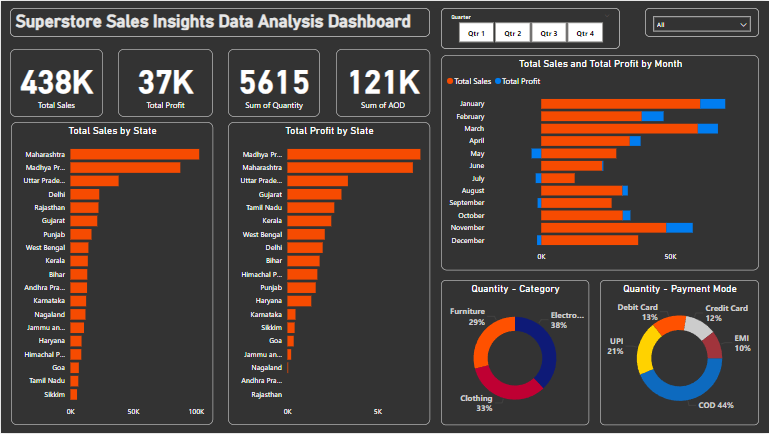

The page's visual inventory and layout, read from the dashboard file:
{"tool":"powerbi","page":{"name":"Page 1","canvas":[1280,720],"ordinal":0},"visuals":[{"type":"textbox","title":"Superstore Sales Insights Data Analysis Dashboard ","box":[15,11.7,700,48.3],"z":0},{"type":"donutChart","title":"Quantity - Category ","fields":{"Category":["Details.Category"],"Y":["Sum(Details.Amount)"]},"box":[733.3,465,246.7,241.7],"z":1000},{"type":"donutChart","title":"Quantity - Payment Mode","fields":{"Category":["Details.PaymentMode"],"Y":["Sum(Details.Quantity)"]},"box":[998.3,465,265,241.7],"z":2000},{"type":"card","fields":{"Values":["Details.Total Sales"]},"box":[15,80,155,113.3],"z":3000},{"type":"card","fields":{"Values":["Details.Total Profit"]},"box":[195,80,158.3,113.3],"z":4000},{"type":"card","fields":{"Values":["Sum(Details.Quantity)"]},"box":[378.3,80,153.3,113.3],"z":5000},{"type":"card","fields":{"Values":["Sum(Details.AOD)"]},"box":[558.3,80,156.7,113.3],"z":6000},{"type":"slicer","fields":{"Values":["Orders.Order Date.Variation.Date Hierarchy.Quarter"]},"box":[732.8,11.3,297.6,68],"z":7000},{"type":"slicer","fields":{"Values":["Orders.State"]},"box":[1072.5,11.2,190,47.5],"z":8000},{"type":"barChart","fields":{"Category":["Orders.Order Date.Variation.Date Hierarchy.Quarter","Orders.Order Date.Variation.Date Hierarchy.Month"],"Y":["Details.total sales","Details.total profit"]},"box":[732.8,89.3,530.1,358.6],"z":9000},{"type":"barChart","fields":{"Y":["Details.Total Sales"],"Category":["Orders.State","Orders.City"]},"box":[16.7,201.7,336.7,505],"z":10000},{"type":"barChart","fields":{"Category":["Orders.State","Orders.City"],"Y":["Details.Total Profit"]},"box":[378.3,201.7,336.7,505],"z":11000}]}

Visuals, with their boxes in screenshot pixels (x1, y1, x2, y2), scaled from the page's 1280x720 canvas onto the 769x434 screenshot:
"Superstore Sales Insights Data Analysis Dashboard " textbox: [left=9, top=7, right=430, bottom=36]
"Quantity - Category " donutChart: [left=441, top=280, right=589, bottom=426]
"Quantity - Payment Mode" donutChart: [left=600, top=280, right=759, bottom=426]
card - Details.Total Sales: [left=9, top=48, right=102, bottom=117]
card - Details.Total Profit: [left=117, top=48, right=212, bottom=117]
card - Sum(Details.Quantity): [left=227, top=48, right=319, bottom=117]
card - Sum(Details.AOD): [left=335, top=48, right=430, bottom=117]
slicer - Orders.Order Date.Variation.Date Hierarchy.Quarter: [left=440, top=7, right=619, bottom=48]
slicer - Orders.State: [left=644, top=7, right=758, bottom=35]
barChart - Orders.Order Date.Variation.Date Hierarchy.Quarter x Orders.Order Date.Variation.Date Hierarchy.Month: [left=440, top=54, right=759, bottom=270]
barChart - Details.Total Sales x Orders.State: [left=10, top=122, right=212, bottom=426]
barChart - Orders.State x Orders.City: [left=227, top=122, right=430, bottom=426]
